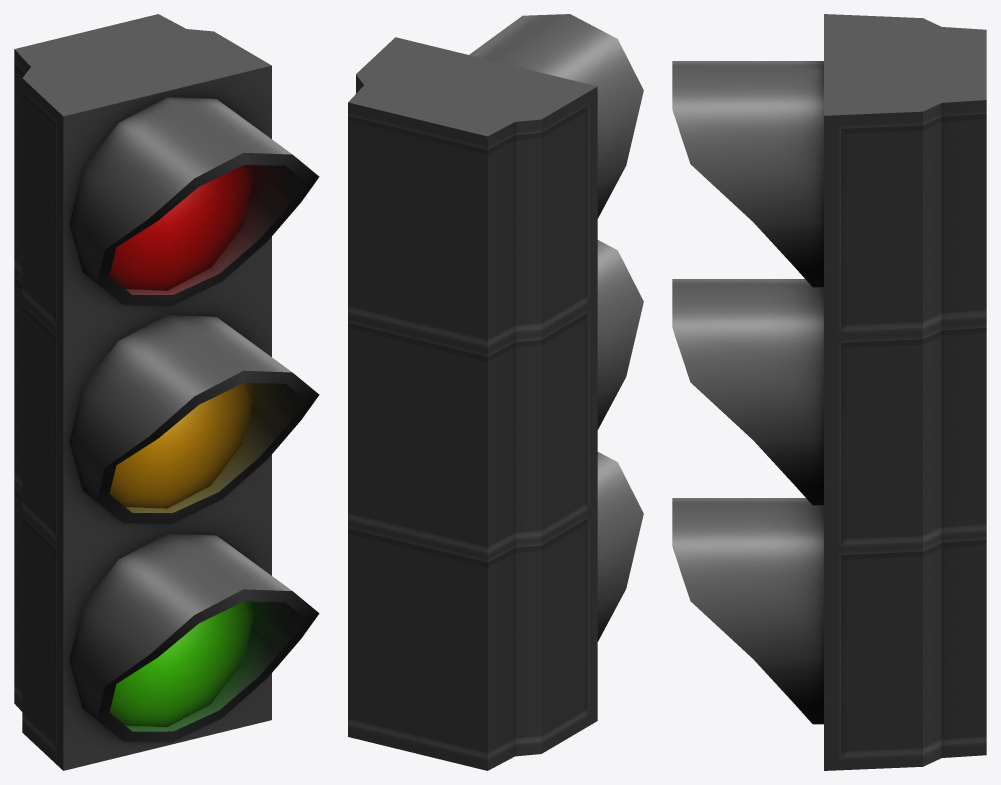
Rendered from ışık.dae.
3 views of the same model, side by side, from view 1: azimuth 30°, elevation 25°; view 2: azimuth 150°, elevation 25°; view 3: azimuth 270°, elevation 25° (orthographic). The views are drawn at different scales.
Visible parts, largest first — view 1: stop_light; view 2: stop_light; view 3: stop_light.
Part boxes in pixels (x1,y1,x2,y2): stop_light: (14,14,319,770); stop_light: (348,14,643,770); stop_light: (672,14,986,770).
Size of the model in its own units: 0.2286 by 0.2984 by 0.6858.
Materials: 1 (1 with a texture image).
